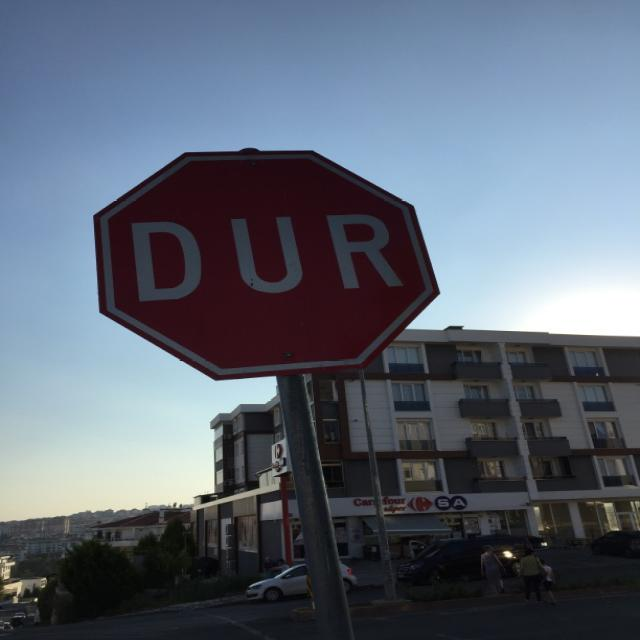dur: (90, 150, 443, 383)
